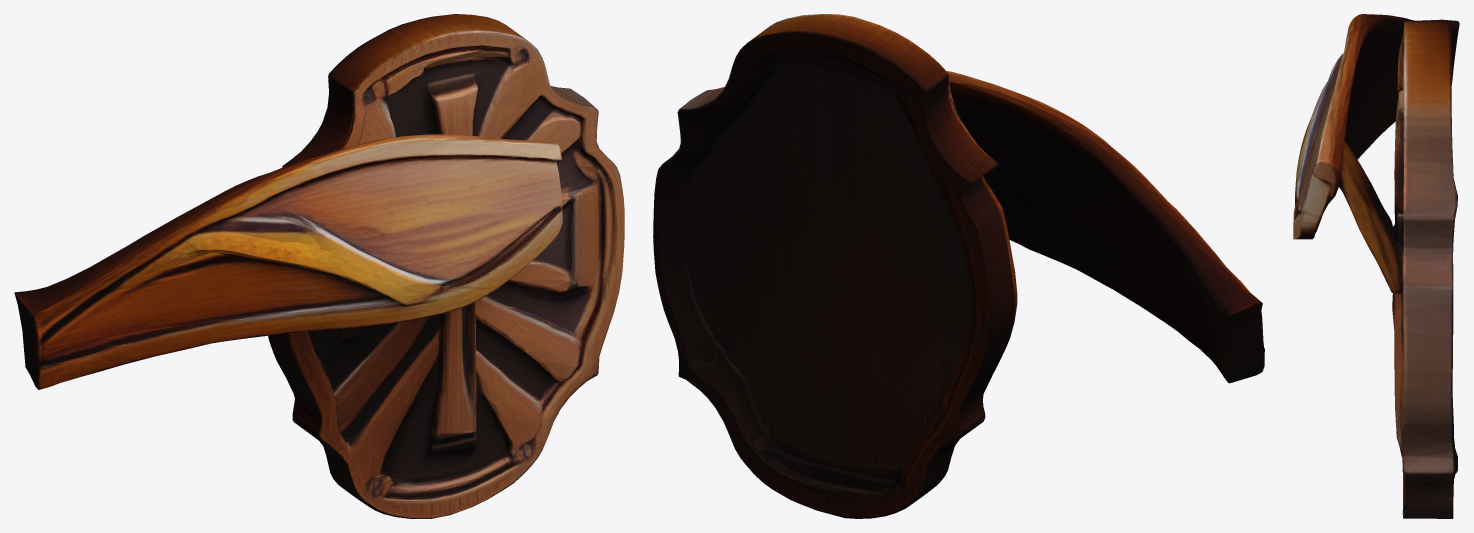
Rendered from wooden-door-handle-art-deco.jpeg.glb.
3 views of the same model, side by side, from view 1: azimuth 30°, elevation 25°; view 2: azimuth 150°, elevation 25°; view 3: azimuth 270°, elevation 25° (orthographic). The views are drawn at different scales.
Parts seen in each view (by area): view 1: world; view 2: world; view 3: world.
Part boxes in pixels (<box>): world: <box>14,14,624,518</box>; world: <box>653,14,1264,518</box>; world: <box>1293,14,1459,518</box>.
Size of the model in its own units: 0.9955 by 0.7763 by 0.2518.
Materials: 1 (1 with a texture image).
